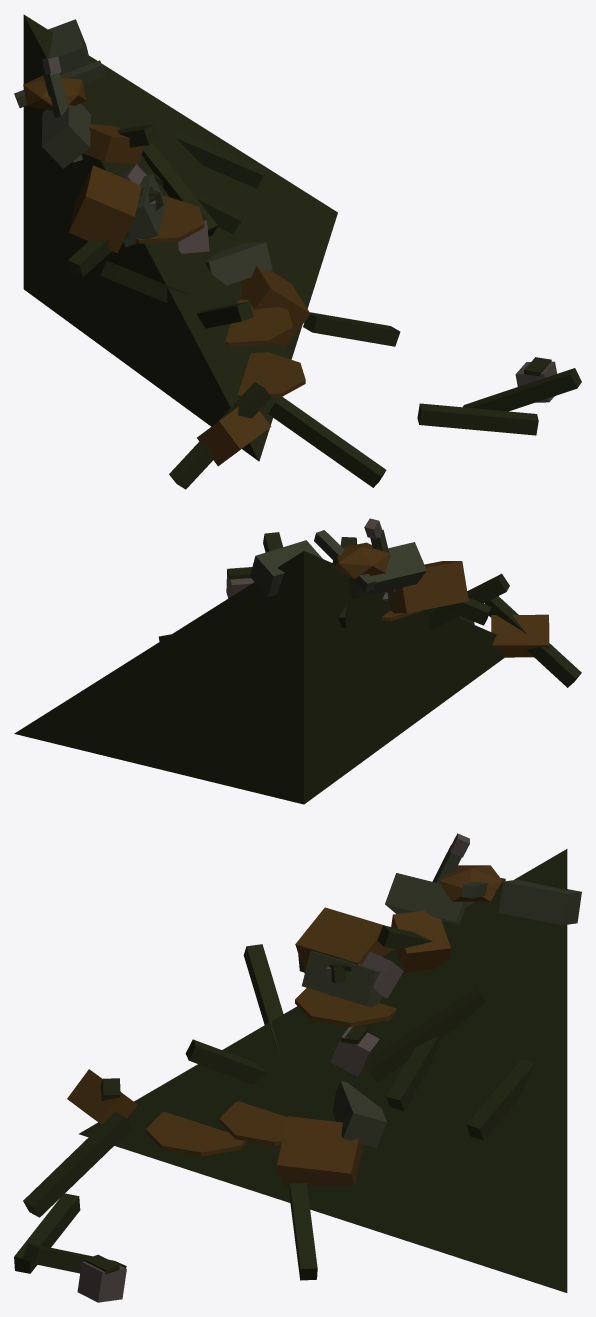
The model's file is SM_PilaZombi_RemateDer_Altura4_s1_LOD0.fbx.
The picture shows the model from 3 angles, top to bottom: view 1: azimuth 30°, elevation 25°; view 2: azimuth 150°, elevation 25°; view 3: azimuth 270°, elevation 25°; orthographic projection. The views are drawn at different scales.
Parts seen in each view (by area): view 1: SM_pila_zombis_v8_LOD0; view 2: SM_pila_zombis_v8_LOD0; view 3: SM_pila_zombis_v8_LOD0.
Part boxes in pixels (box(x1,y1,x2,y2)): SM_pila_zombis_v8_LOD0: box(14, 14, 581, 489); SM_pila_zombis_v8_LOD0: box(14, 518, 581, 804); SM_pila_zombis_v8_LOD0: box(14, 833, 581, 1302).
Bounding box in the file's own units: 3.06 × 2.29 × 3.7.
